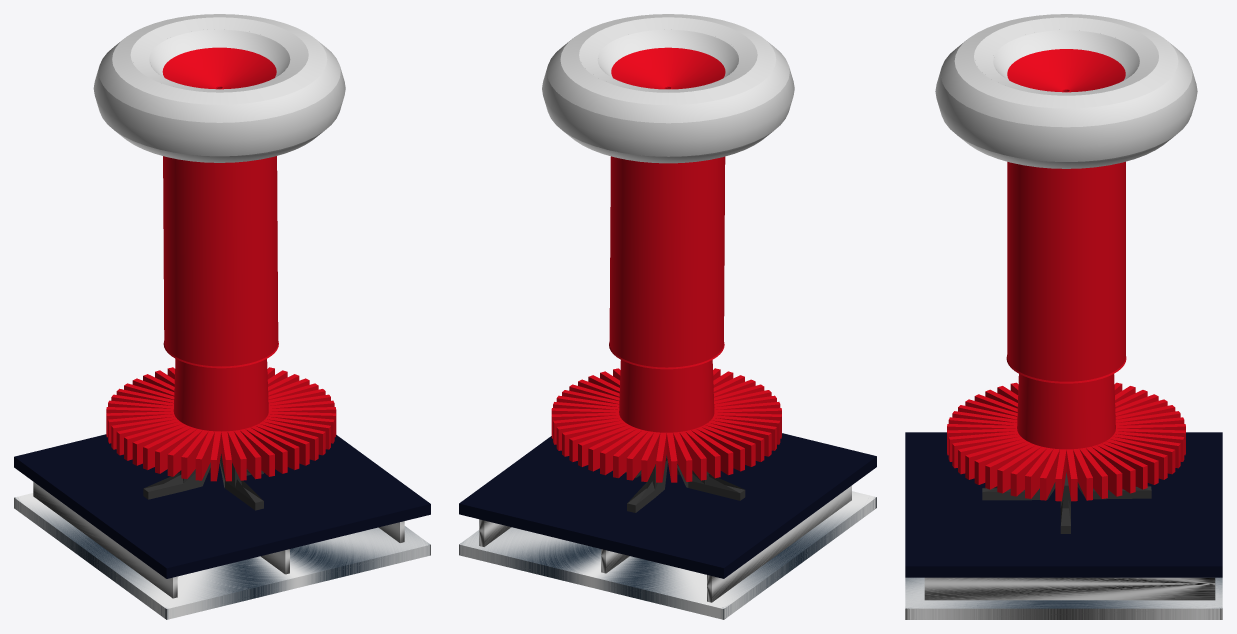
The model's file is Teslav8.fbx.
3 views of the same model, side by side, from view 1: azimuth 30°, elevation 25°; view 2: azimuth 150°, elevation 25°; view 3: azimuth 270°, elevation 25° (orthographic). The views are drawn at different scales.
Parts seen in each view (by area): view 1: Torus, Plane, bottomPlane, Cube.004, Cube.001, Cube.002; view 2: Torus, Plane, bottomPlane, Cube.004, Cube.001, Cube; view 3: Torus, Plane, bottomPlane, Cube.005, Cube.002, Cube.003, Cube.
Part boxes in pixels (x1,y1,x2,y2): Torus: (93, 14, 345, 481); Plane: (14, 434, 430, 578); bottomPlane: (14, 493, 430, 619); Cube.004: (33, 482, 177, 598); Cube.001: (143, 462, 210, 499); Cube.002: (219, 454, 263, 510); Torus: (542, 14, 794, 482); Plane: (459, 433, 876, 578); bottomPlane: (459, 491, 876, 619); Cube.004: (707, 485, 851, 602); Cube.001: (677, 464, 745, 500); Cube: (627, 455, 667, 512); Torus: (935, 14, 1197, 501); Plane: (905, 432, 1222, 577); bottomPlane: (905, 577, 1222, 619); Cube.005: (924, 577, 1215, 600); Cube.002: (982, 482, 1055, 500); Cube.003: (1060, 472, 1070, 533); Cube: (1077, 482, 1151, 499).
Size of the model in its own units: 445 by 767 by 445.
14 materials, 7 textured.
